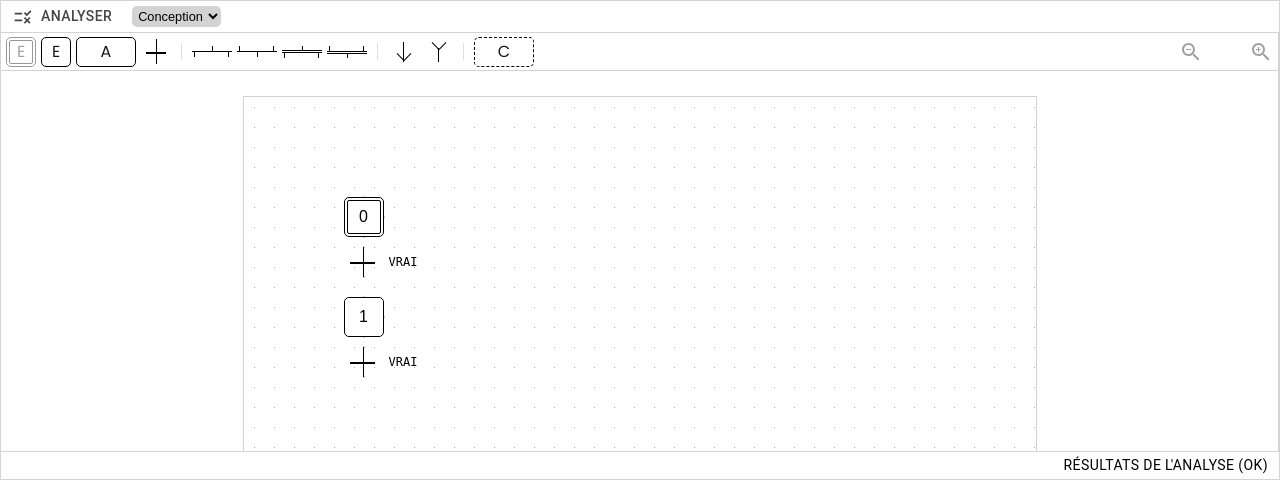
Scenario: EmbeddedApp › controls › only offers the analysis status in design mode
The image size is (1280, 497).
Expected: the button "Résultats de l'analyse (OK)" is shown, [1061,452,1271,479]
Select "Simulation" in the dropdown at (177, 16), box [132,6,221,27]
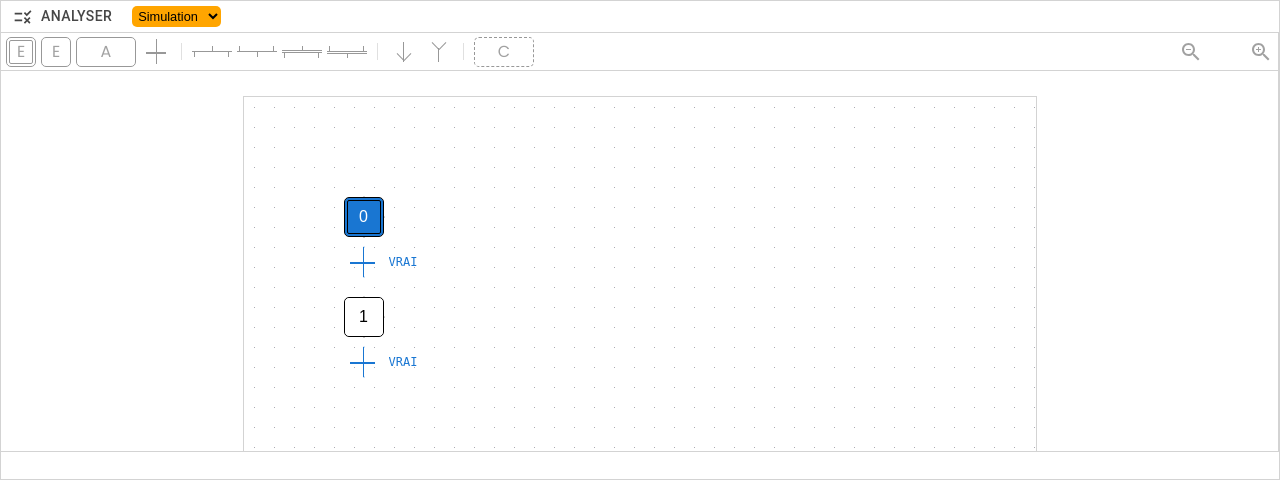
Expected: the button "Résultats de l'analyse" is gone
